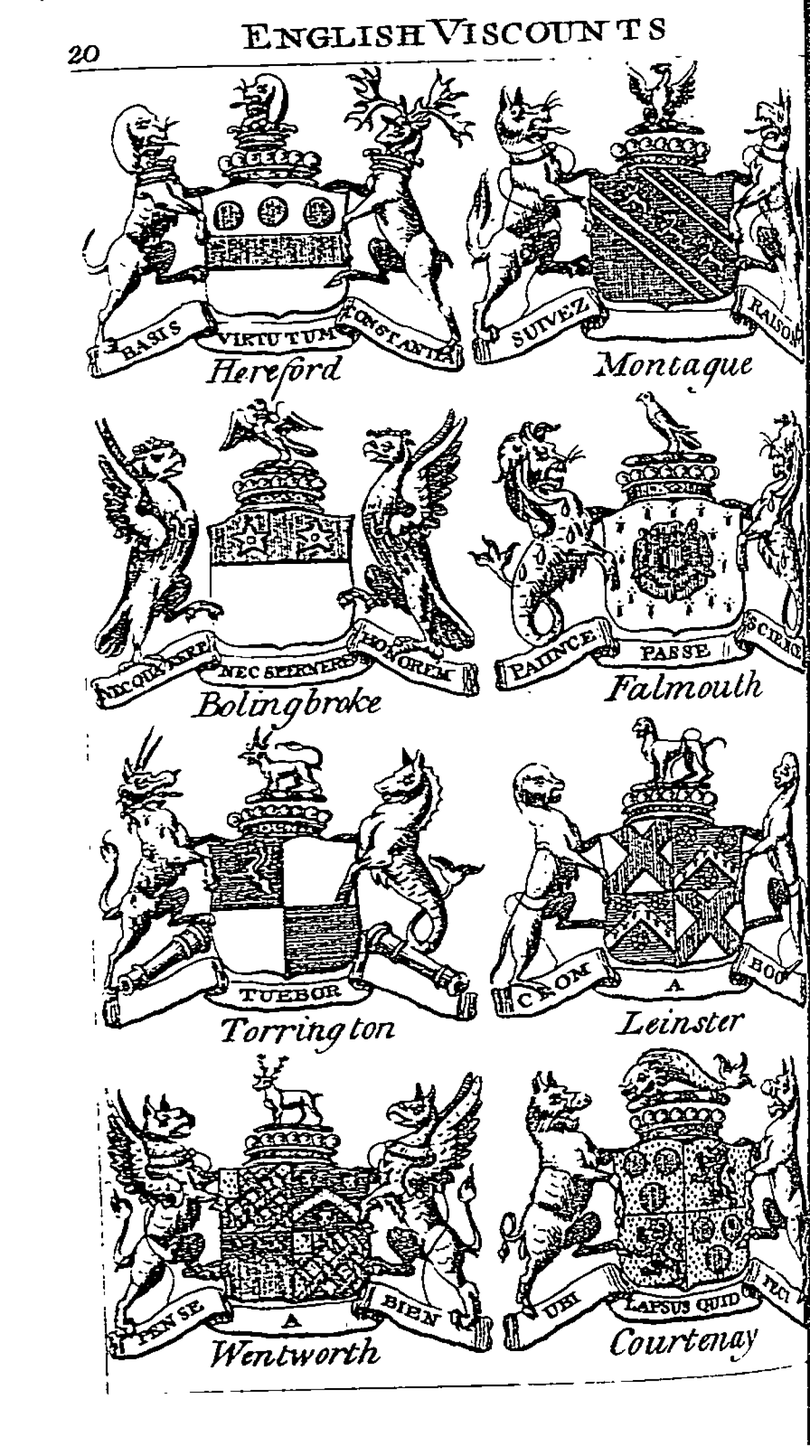coat_of_arms: (87, 391, 480, 732), (89, 1051, 500, 1374), (89, 730, 486, 1054), (74, 69, 466, 386), (482, 715, 810, 1042), (468, 69, 805, 387), (480, 391, 808, 714), (516, 1047, 810, 1368)
